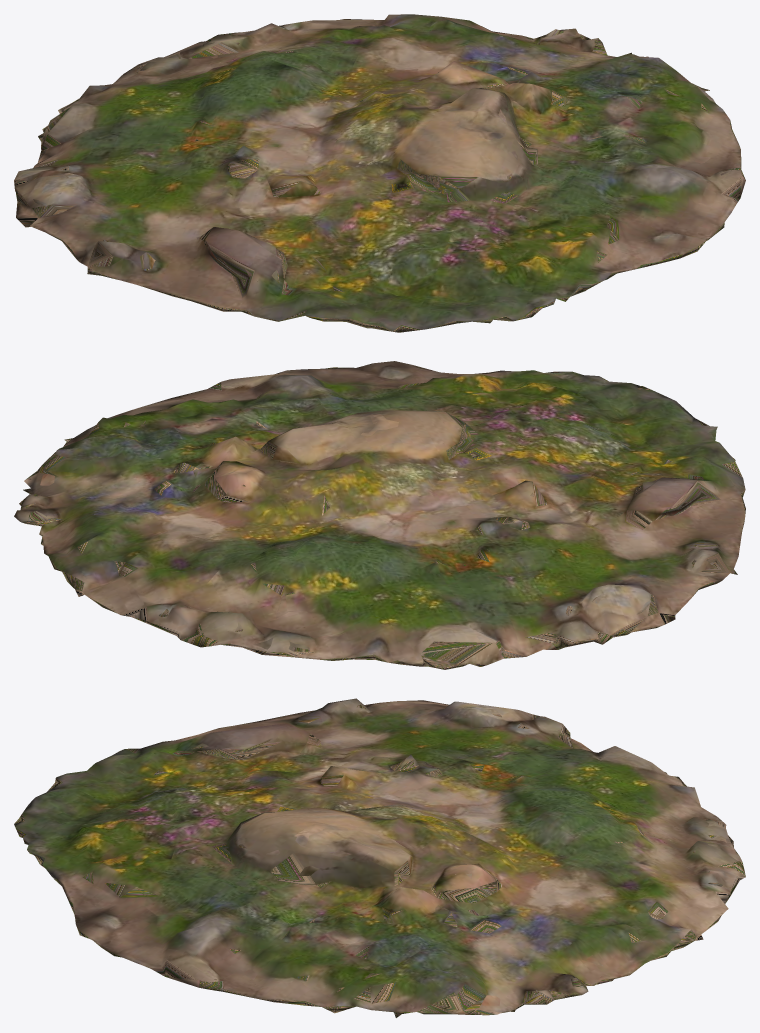
Rendered from rocky-meadow.glb.
The picture shows the model from 3 angles, top to bottom: view 1: azimuth 30°, elevation 25°; view 2: azimuth 150°, elevation 25°; view 3: azimuth 270°, elevation 25°; orthographic projection. The views are drawn at different scales.
Bounding box in the file's own units: 1.91 × 0.19 × 1.89.
Materials: 1 (1 with a texture image).
